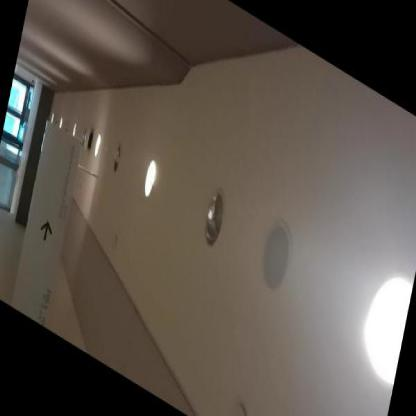light_off: (190, 158, 239, 274), (103, 119, 134, 196), (81, 119, 97, 162)
